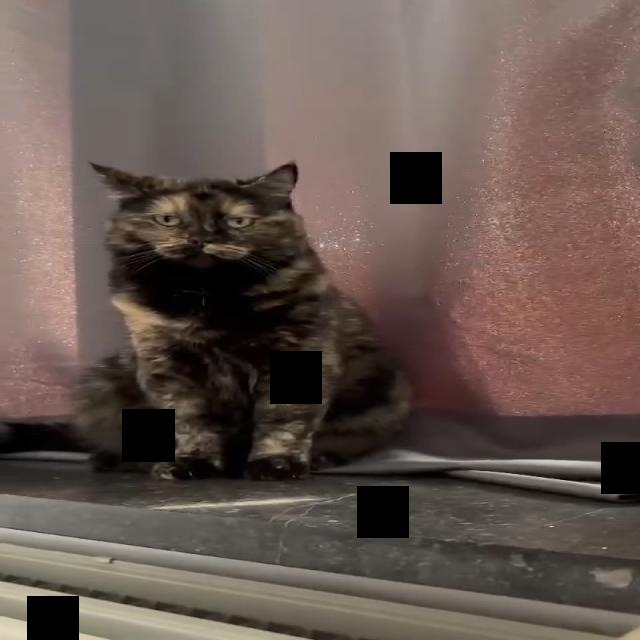authorized: (69, 159, 415, 482)
